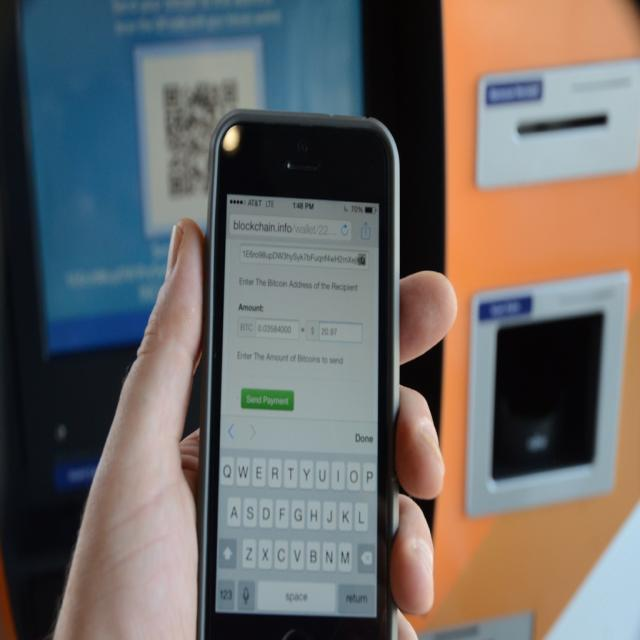Mobile-phone: (198, 107, 402, 639)
